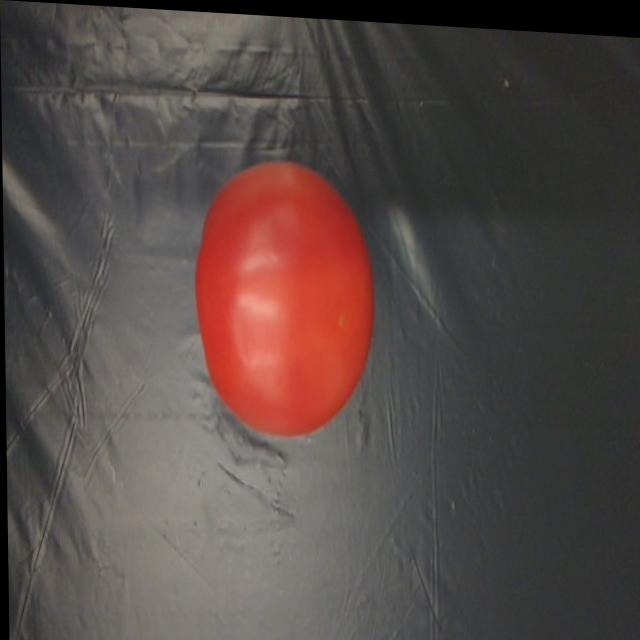kirmizi: (192, 154, 385, 448)
